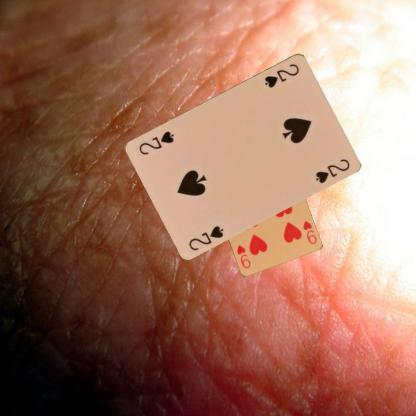2s: (186, 222, 225, 252), (262, 60, 300, 90)
9h: (300, 218, 318, 245)
